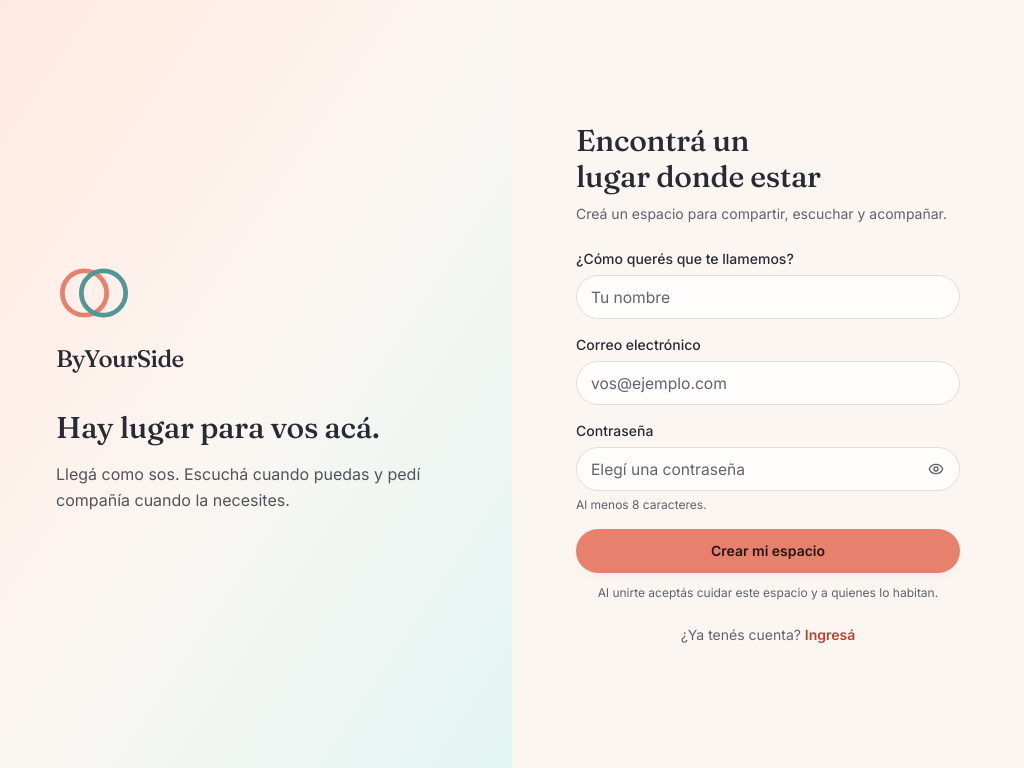
Test: RegisterPage › shows and hides the password without changing its value
The width and height of the screenshot is (1024, 768).
Type "secretpass" into the password field labelled "Contraseña". click: (768,469)
box: [576, 447, 960, 491]
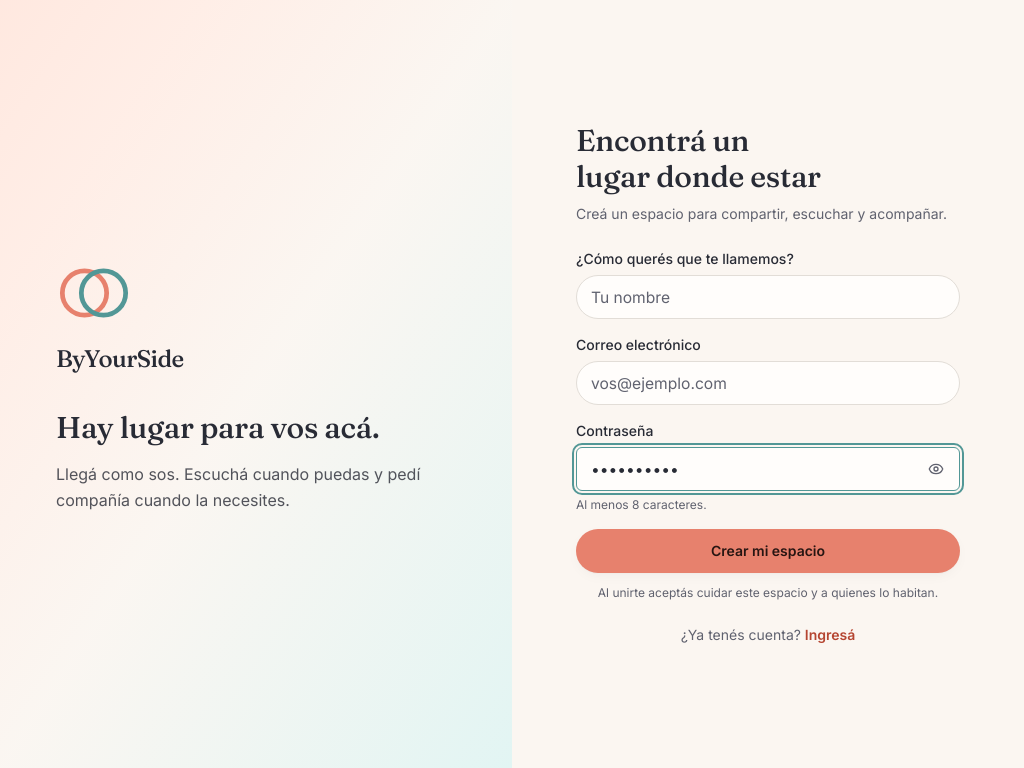
Click the button named "Mostrar contraseña". click: (936,469)
box: [916, 449, 956, 489]
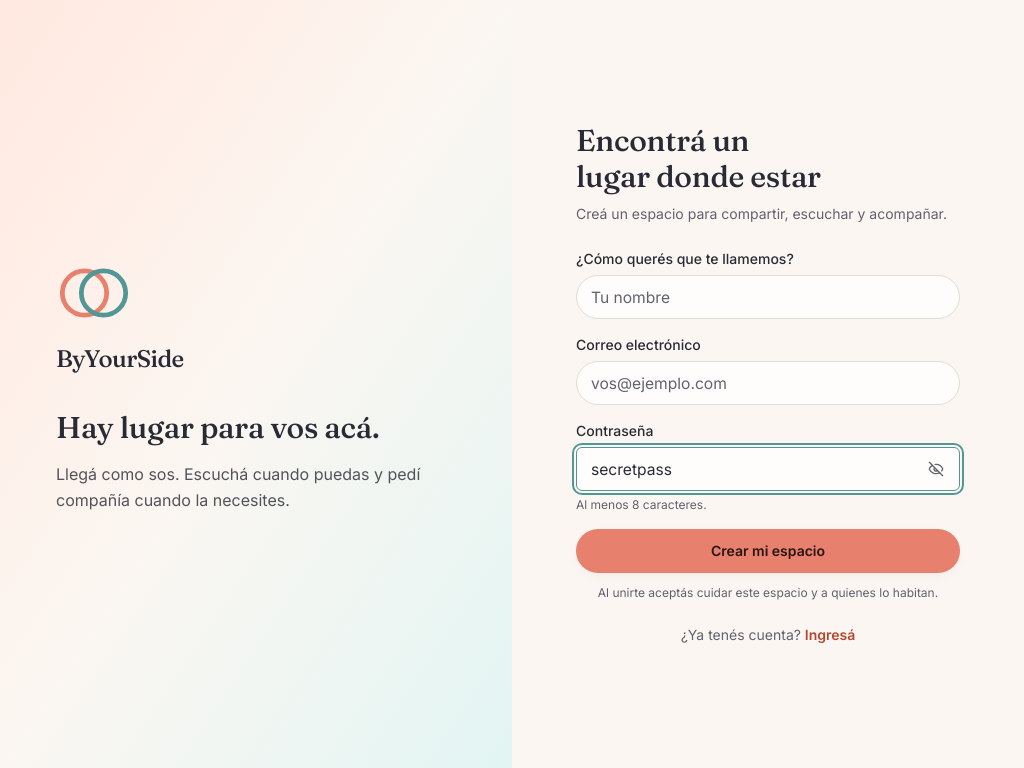
Expected: the field labelled "Contraseña" shows its text, [576, 447, 960, 491]
Click the button named "Ocultar contraseña". click: (936,469)
box: [916, 449, 956, 489]
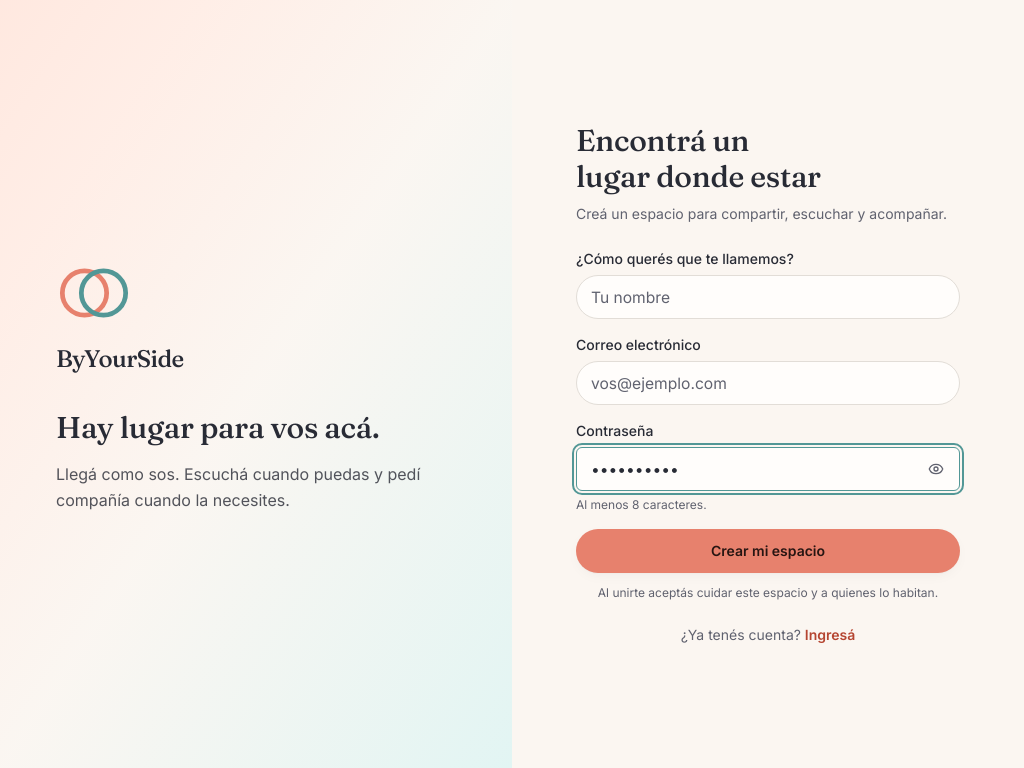
Expected: the password field labelled "Contraseña" hides its text, [576, 447, 960, 491]
